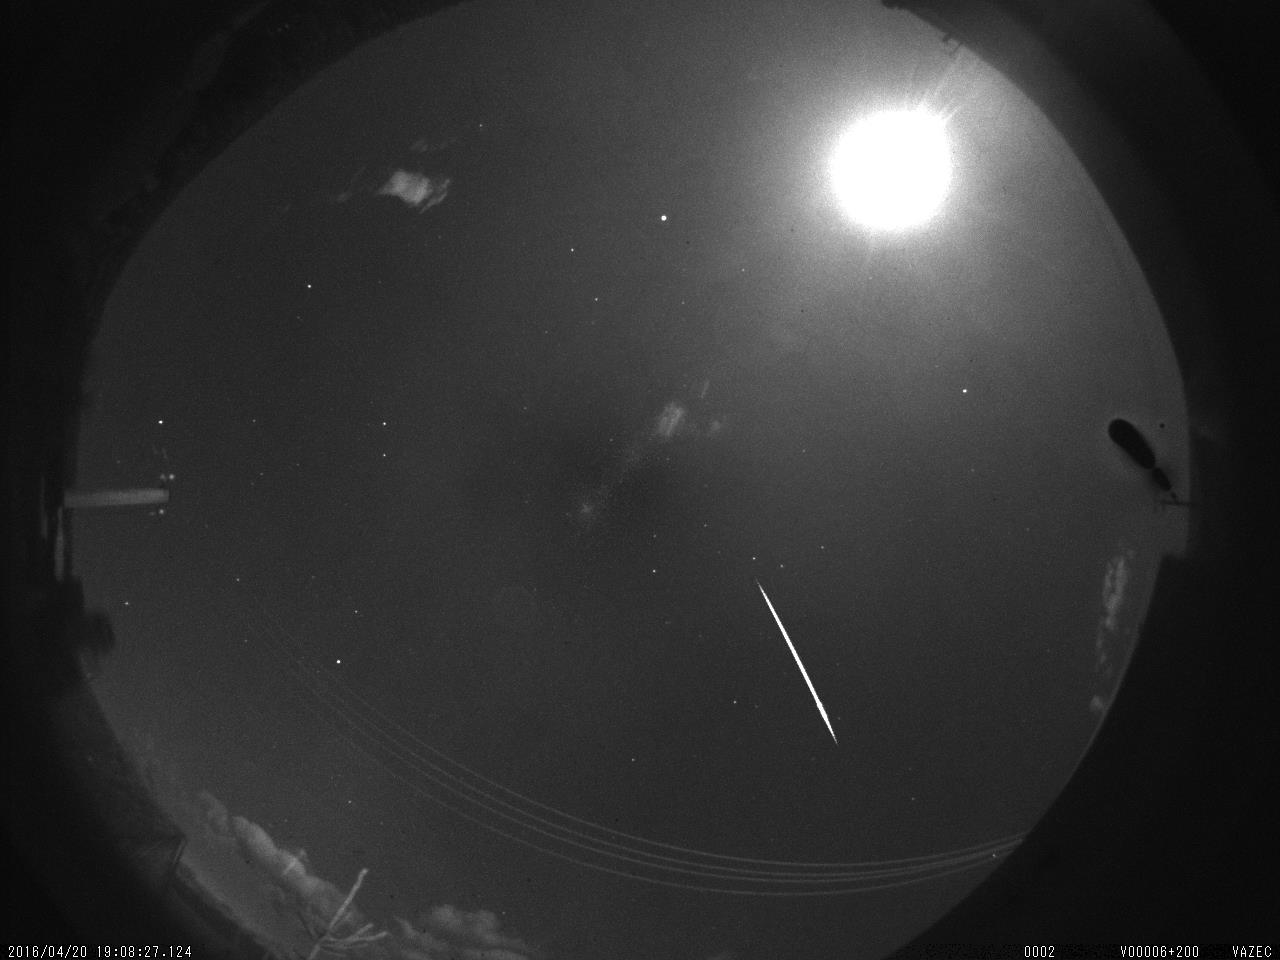meteor: (724, 554, 874, 766)
